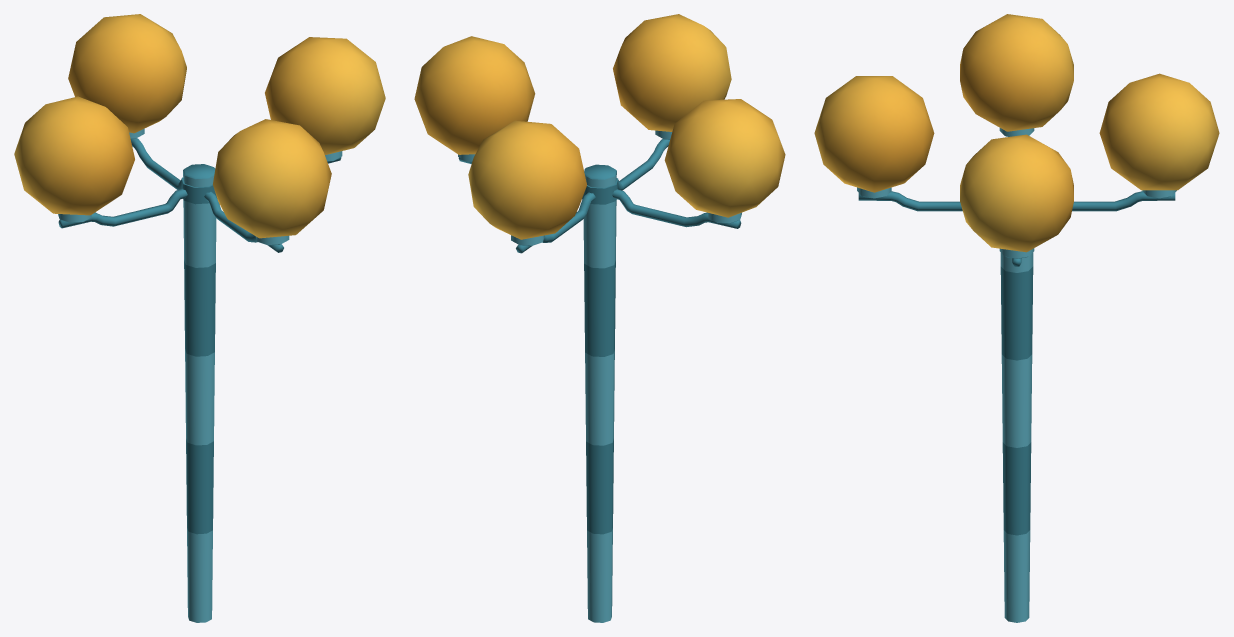
Rendered from lamppost04.fbx.
3 views of the same model, side by side, from view 1: azimuth 30°, elevation 25°; view 2: azimuth 150°, elevation 25°; view 3: azimuth 270°, elevation 25° (orthographic).
Visible parts, largest first — view 1: lamppost04; view 2: lamppost04; view 3: lamppost04.
Boxes of the visible parts, x1,y1,x2,y2 form: lamppost04: (14,14,385,622); lamppost04: (414,14,785,622); lamppost04: (814,14,1219,622).
Bounding box in the file's own units: 284 × 417 × 284.
